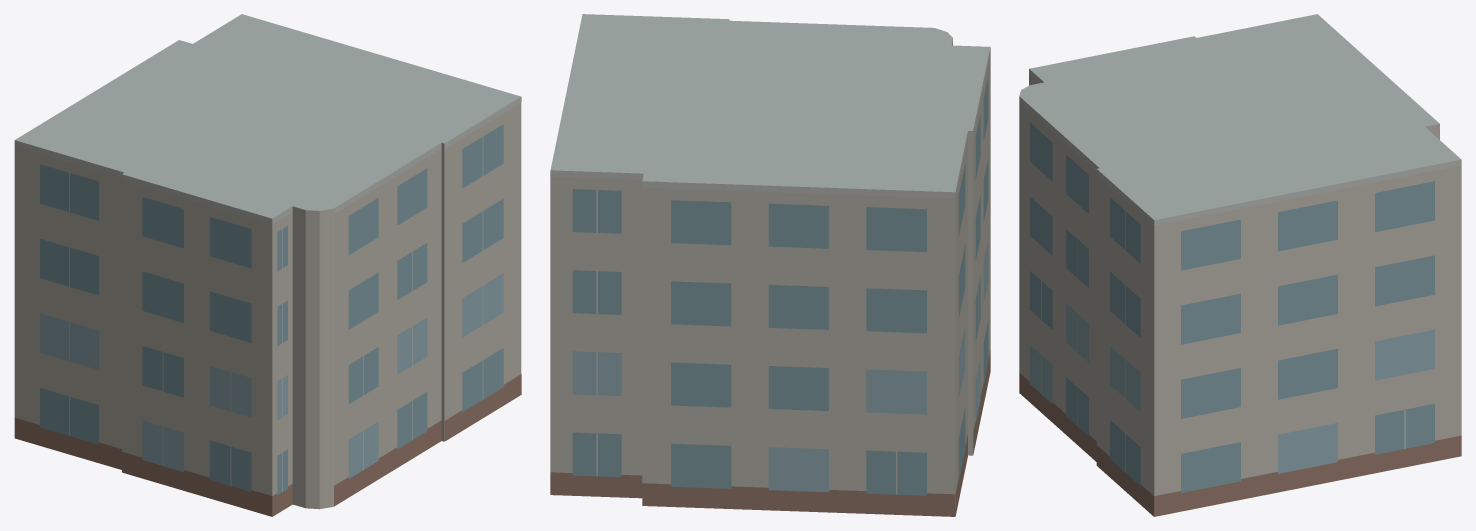
Rendered from survey-upis-32834804.glb.
3 views of the same model, side by side, from view 1: azimuth 30°, elevation 25°; view 2: azimuth 150°, elevation 25°; view 3: azimuth 270°, elevation 25° (orthographic). The views are drawn at different scales.
Parts seen in each view (by area): view 1: survey-upis-32834804.tmp; view 2: survey-upis-32834804.tmp; view 3: survey-upis-32834804.tmp.
Boxes of the visible parts, left/top/right/bottom form: survey-upis-32834804.tmp: left=14, top=14, right=521, bottom=516; survey-upis-32834804.tmp: left=550, top=14, right=990, bottom=516; survey-upis-32834804.tmp: left=1019, top=14, right=1461, bottom=516.
Size of the model in its own units: 18.64 by 12.5 by 16.89.
